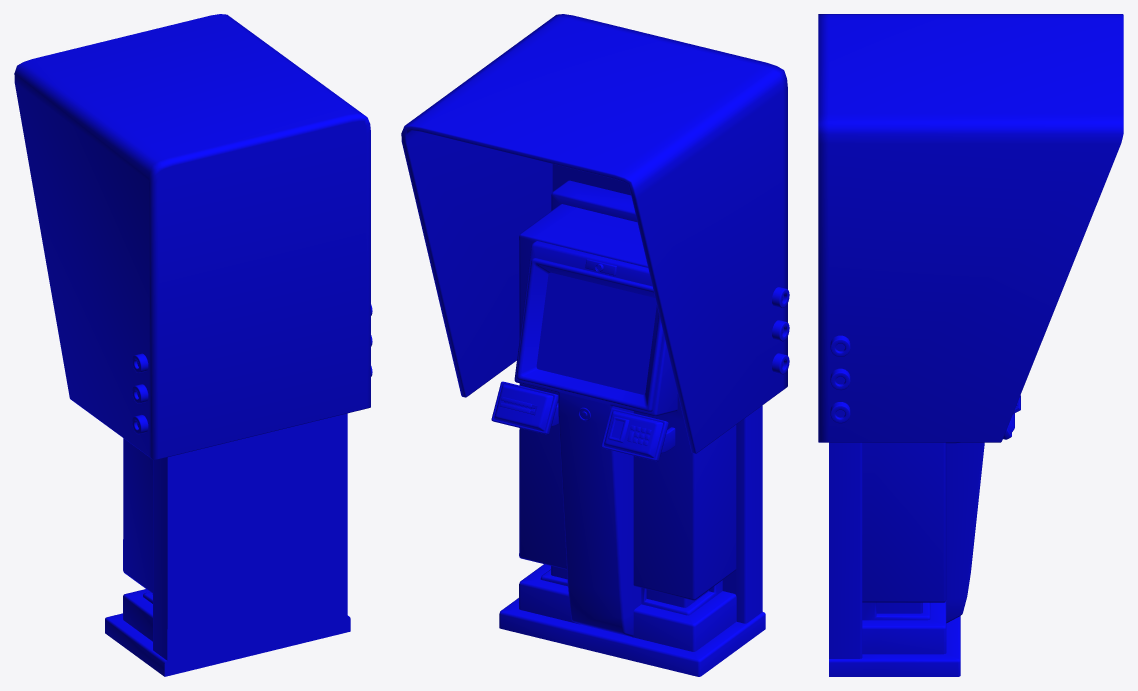
3 renders of one model, left to right at view 1: azimuth 30°, elevation 25°; view 2: azimuth 150°, elevation 25°; view 3: azimuth 270°, elevation 25°, orthographic. The views are drawn at different scales.
Parts seen in each view (by area): view 1: VideoPhone; view 2: VideoPhone; view 3: VideoPhone.
Boxes of the visible parts, x1,y1,x2,y2 form: VideoPhone: (14,14,372,676); VideoPhone: (401,14,789,676); VideoPhone: (818,14,1123,676).
Size of the model in its own units: 0.9364 by 2 by 0.9855.
